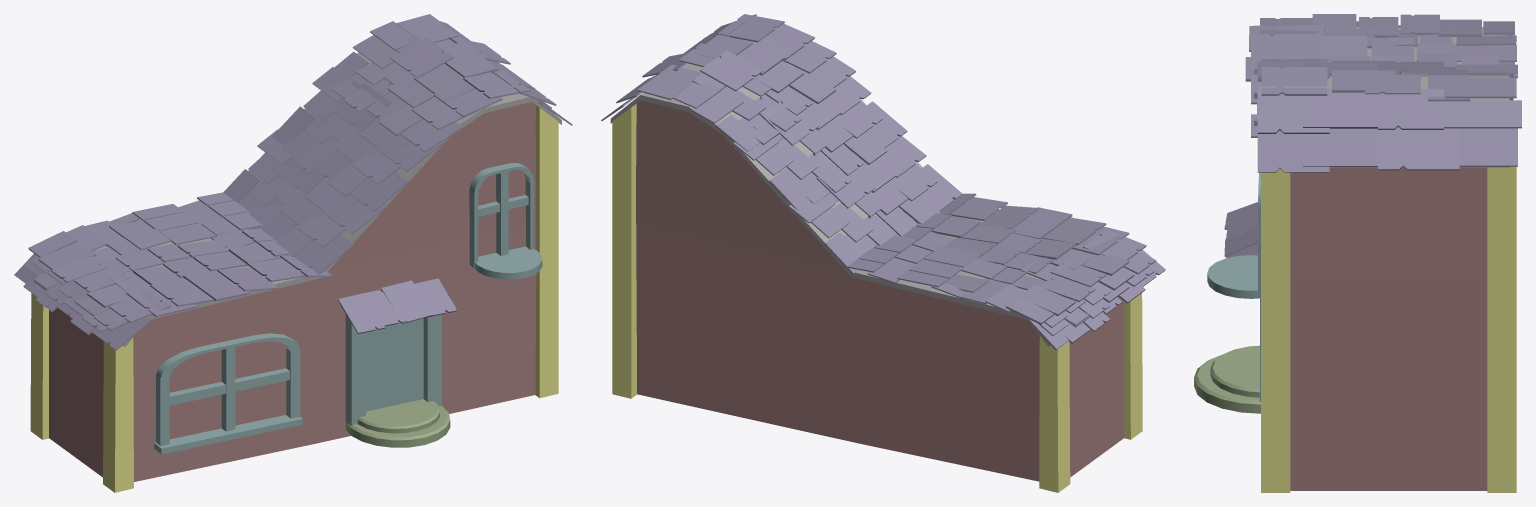
File: robothouse.fbx
3 views of the same model, side by side, from view 1: azimuth 30°, elevation 25°; view 2: azimuth 150°, elevation 25°; view 3: azimuth 270°, elevation 25° (orthographic). The views are drawn at different scales.
Visible parts, largest first — view 1: pCube1, pCube2, pasted__pasted__pasted__pasted__pasted__pasted__pasted__past (×9), pasted__pasted__pasted__pasted__pasted__pasted__pasted__pCub (×8), pCube7, pasted__pasted__pasted__pasted__pasted__pCube7 (×8), pasted__pasted__pasted__pasted__pasted__pasted__pCube7 (×8), pasted__pasted__pCube7 (×5), pasted__pasted__pasted__pasted__pCube7 (×7), pasted__pCube7, pasted__pCube5, pCube4 (+16 smaller); view 2: pCube1, pasted__pasted__pCube7 (×5), pasted__pCube10, pasted__pasted__pasted__pasted__pasted__pCube7 (×8), pasted__pasted__pasted__pasted__pasted__pasted__pCube7 (×8), pasted__pasted__pasted__pasted__pasted__pasted__pasted__pCub (×7), pasted__pasted__pasted__pasted__pCube7 (×7), pasted__pasted__pasted__pasted__pasted__pasted__pasted__past (×5), pCube4, pasted__pCube7, pasted__pasted__pasted__pasted__pCube8 (×3), pasted__pasted__pasted__pCube9 (×2) (+6 smaller); view 3: pCube1, pasted__pasted__pasted__pasted__pasted__pasted__pasted__past (×13), pasted__pCube10, pasted__pasted__pasted__pasted__pasted__pasted__pasted__pCub (×7), pCube7, pasted__pasted__pasted__pasted__pasted__pasted__pCube7 (×4), pasted__pasted__pasted__pasted__pasted__pCube7 (×3), pCylinder1, pCylinder2, pasted__pasted__pasted__pasted__pCube7 (×3), pasted__pCylinder1, pasted__pasted__pCube7 (×2) (+6 smaller).
Part boxes in pixels (bbox=[...]): pCube1: bbox=[49, 102, 538, 481]; pCube2: bbox=[345, 314, 441, 425]; pasted__pasted__pasted__pasted__pasted__pasted__pasted__past (×9): bbox=[143, 14, 458, 333]; pasted__pasted__pasted__pasted__pasted__pasted__pasted__pCub (×8): bbox=[303, 21, 530, 317]; pCube7: bbox=[535, 105, 558, 398]; pasted__pasted__pasted__pasted__pasted__pCube7 (×8): bbox=[51, 75, 442, 306]; pasted__pasted__pasted__pasted__pasted__pasted__pCube7 (×8): bbox=[177, 51, 502, 291]; pasted__pasted__pCube7 (×5): bbox=[30, 176, 357, 439]; pasted__pasted__pasted__pasted__pCube7 (×7): bbox=[28, 63, 475, 317]; pasted__pCube7: bbox=[103, 337, 133, 492]; pasted__pCube5: bbox=[156, 333, 300, 445]; pCube4: bbox=[94, 52, 561, 347]; pCube1: bbox=[636, 100, 1124, 481]; pasted__pasted__pCube7 (×5): bbox=[856, 151, 1075, 492]; pasted__pCube10: bbox=[612, 104, 636, 398]; pasted__pasted__pasted__pasted__pasted__pCube7 (×8): bbox=[752, 61, 1106, 301]; pasted__pasted__pasted__pasted__pasted__pasted__pCube7 (×8): bbox=[715, 24, 1038, 283]; pasted__pasted__pasted__pasted__pasted__pasted__pasted__pCub (×7): bbox=[673, 14, 819, 179]; pasted__pasted__pasted__pasted__pCube7 (×7): bbox=[737, 36, 1053, 324]; pasted__pasted__pasted__pasted__pasted__pasted__pasted__past (×5): bbox=[637, 50, 981, 278]; pCube4: bbox=[610, 38, 1083, 346]; pasted__pCube7: bbox=[1124, 293, 1142, 439]; pasted__pasted__pasted__pasted__pCube8 (×3): bbox=[843, 132, 1106, 287]; pasted__pasted__pasted__pCube9 (×2): bbox=[920, 164, 1146, 260]; pCube1: bbox=[1290, 167, 1487, 490]; pasted__pasted__pasted__pasted__pasted__pasted__pasted__past (×13): bbox=[1224, 61, 1521, 257]; pasted__pCube10: bbox=[1487, 166, 1516, 492]; pasted__pasted__pasted__pasted__pasted__pasted__pasted__pCub (×7): bbox=[1257, 43, 1517, 166]; pCube7: bbox=[1261, 168, 1290, 492]; pasted__pasted__pasted__pasted__pasted__pasted__pCube7 (×4): bbox=[1303, 35, 1516, 128]; pasted__pasted__pasted__pasted__pasted__pCube7 (×3): bbox=[1251, 14, 1439, 57]; pCylinder1: bbox=[1210, 345, 1259, 397]; pCylinder2: bbox=[1207, 255, 1258, 298]; pasted__pasted__pasted__pasted__pCube7 (×3): bbox=[1249, 21, 1514, 75]; pasted__pCylinder1: bbox=[1194, 355, 1260, 413]; pasted__pasted__pCube7 (×2): bbox=[1245, 35, 1367, 81].
Size of the model in its own units: 15.04 by 9.73 by 7.43.
